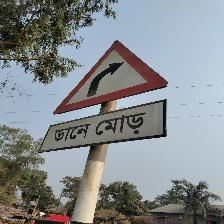Right-turn: (39, 39, 170, 152)
